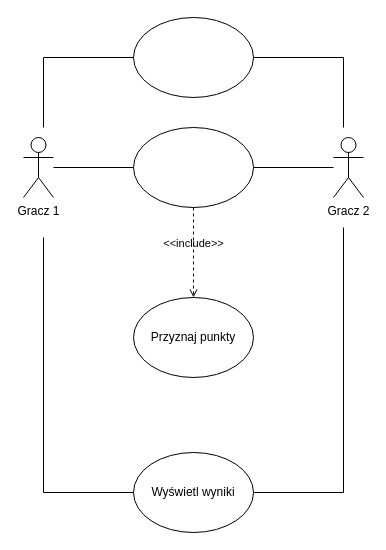
Image size: 386x550. Some labels were removed from this diagram. Here are the shapes that lost their labels. From the top down, the box of each, then its label:
(132, 16, 254, 98): Rozpocznij grę
(132, 126, 254, 208): Odpowiedz na pytanie
